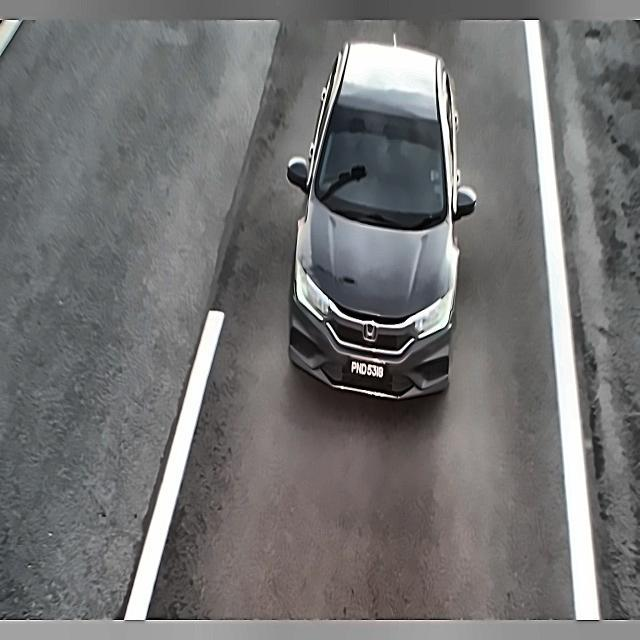car: (344, 354, 388, 390)
